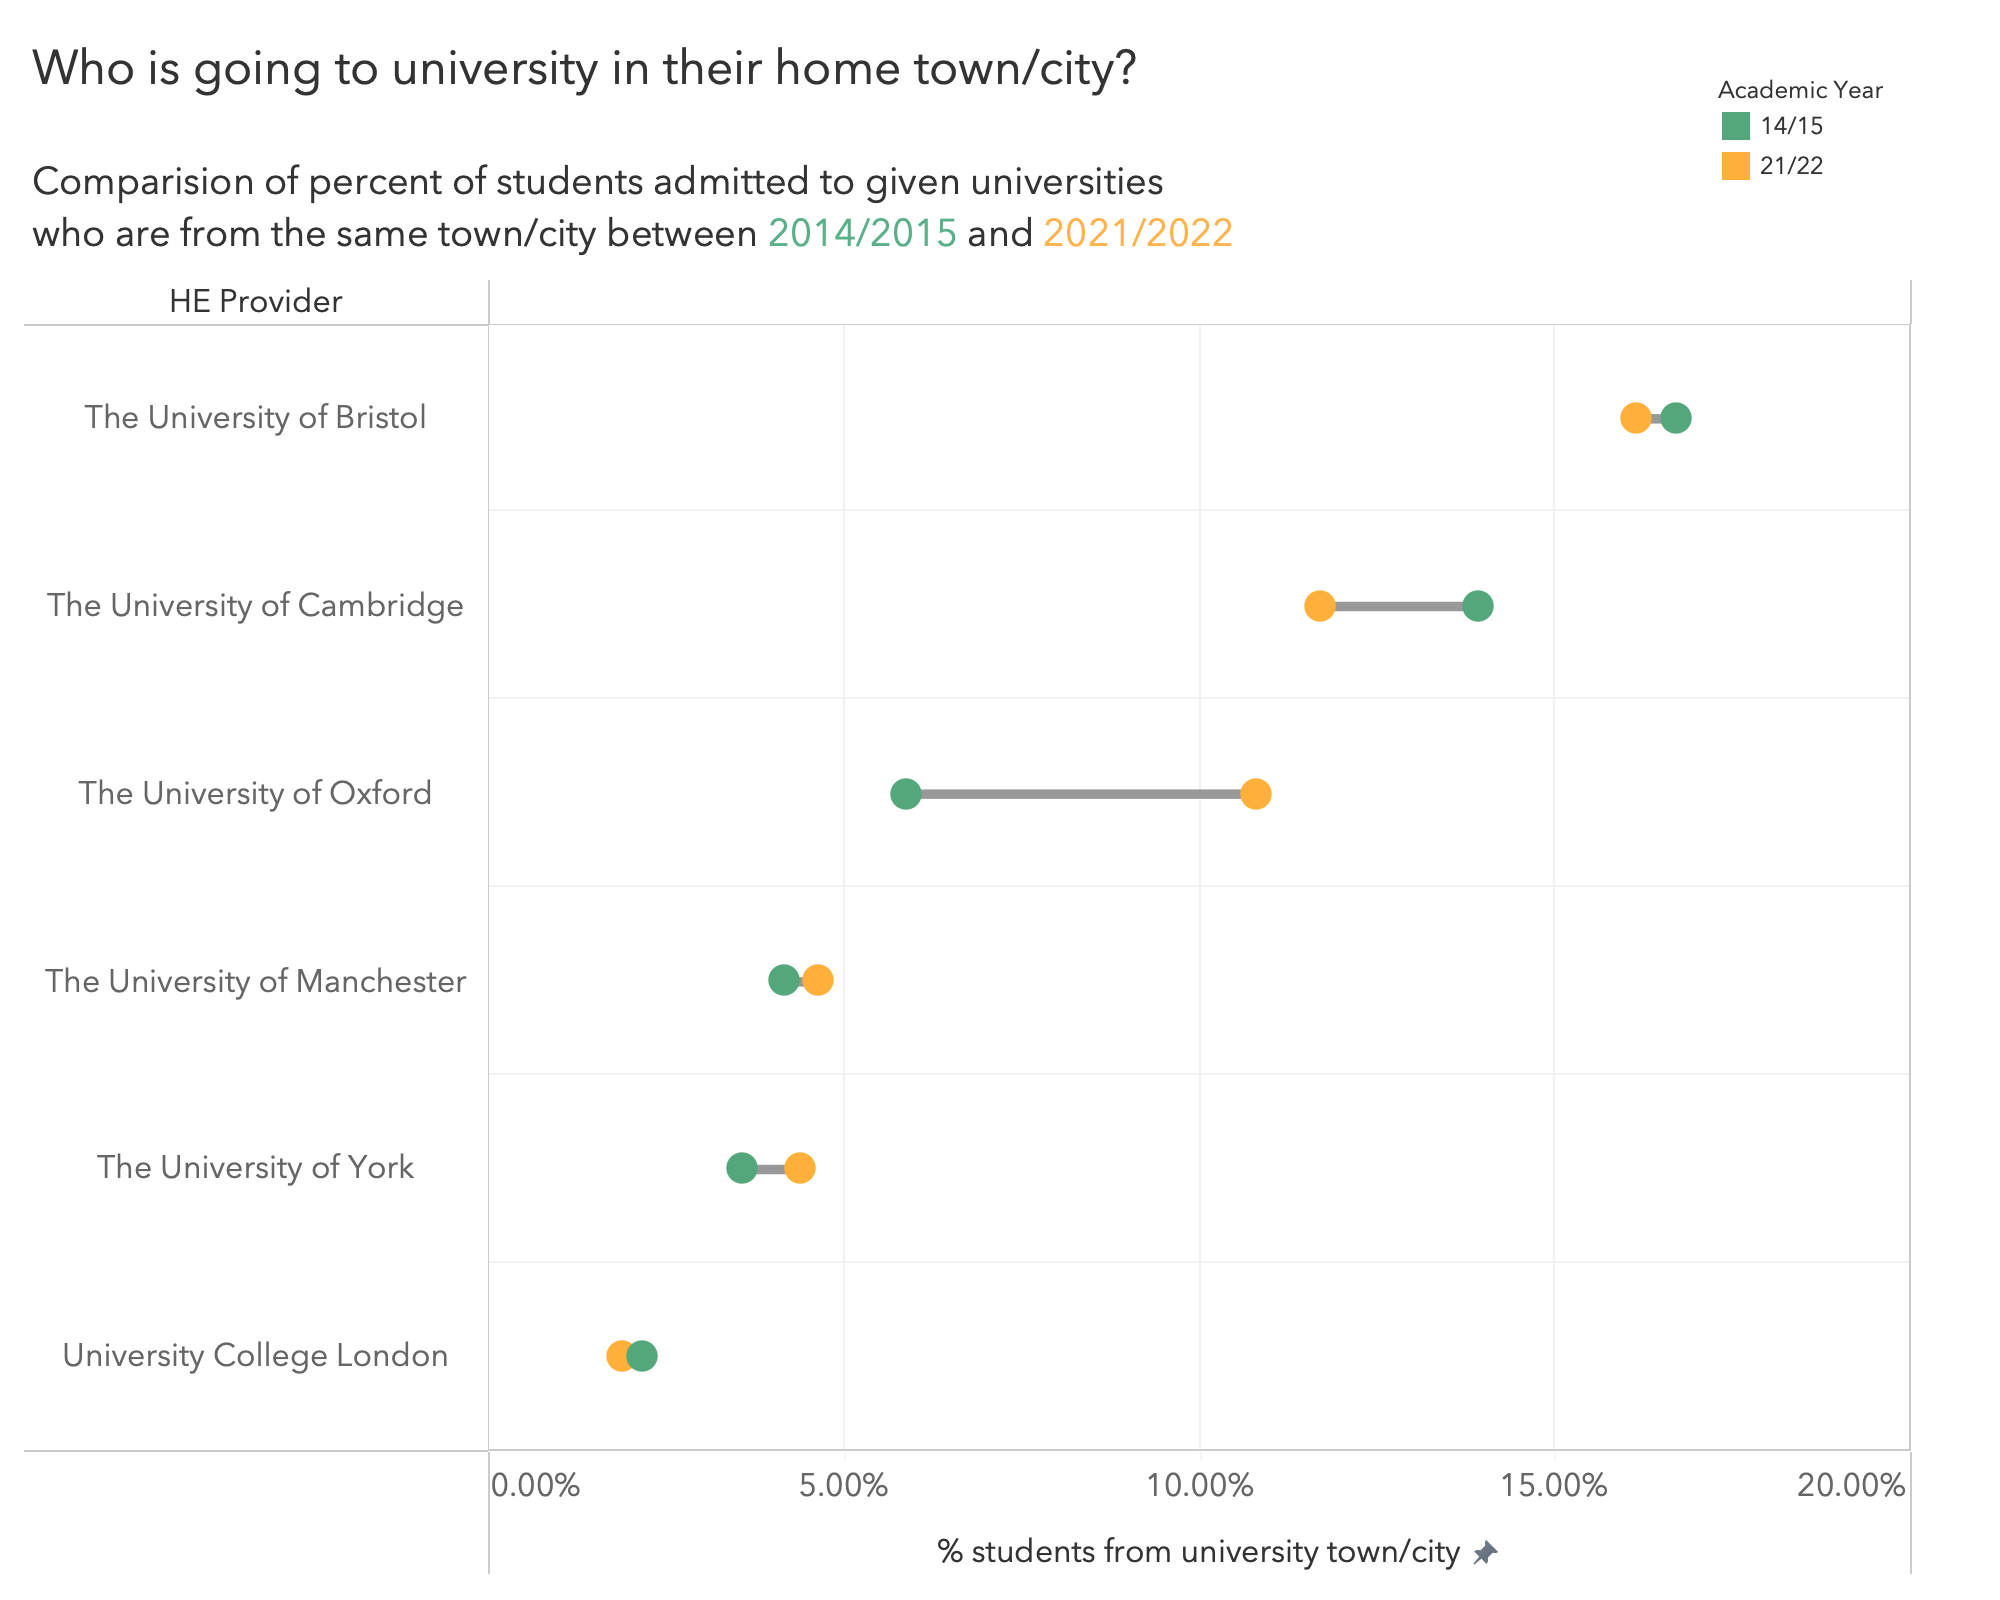

The page's visual inventory and layout, read from the dashboard file:
{"tool":"tableau","page":{"name":"Dashboard 1","canvas":[1000,800],"ordinal":0},"visuals":[{"type":"worksheet","title":"dumbbell","mark":"Line","rows":["HE Provider"],"cols":["perc_home","perc_home"],"box":[8,8,952,784]},{"type":"legend","title":"dumbbell","param":"[federated.17v91540niik0n13eof5c1cn7kxv].[none:academic_year:nk]","box":[858,35,140,58]}]}

Visuals, with their boxes in screenshot pixels (x1, y1, x2, y2), scaled from the page's 1000x800 canvas onto the 2000x1600 screenshot:
"dumbbell" worksheet (Line marks): left=16, top=16, right=1920, bottom=1584
"dumbbell" legend: left=1716, top=70, right=1996, bottom=186
